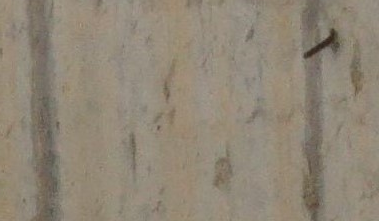Exposed reinforcement: (302, 33, 334, 60)
